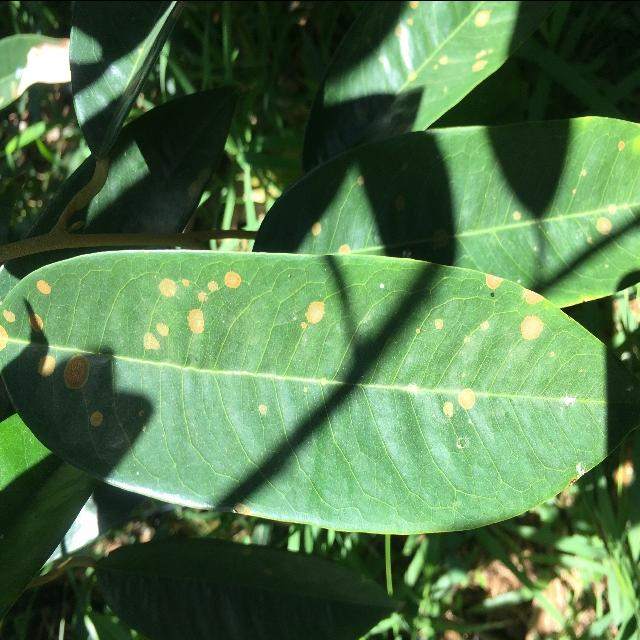Algal Leaf Spot: (0, 239, 640, 542)
